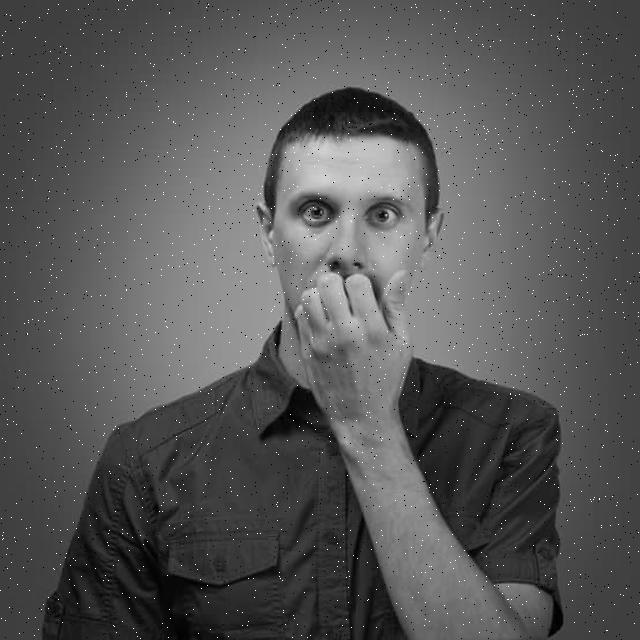Fear: (280, 138, 420, 344)
